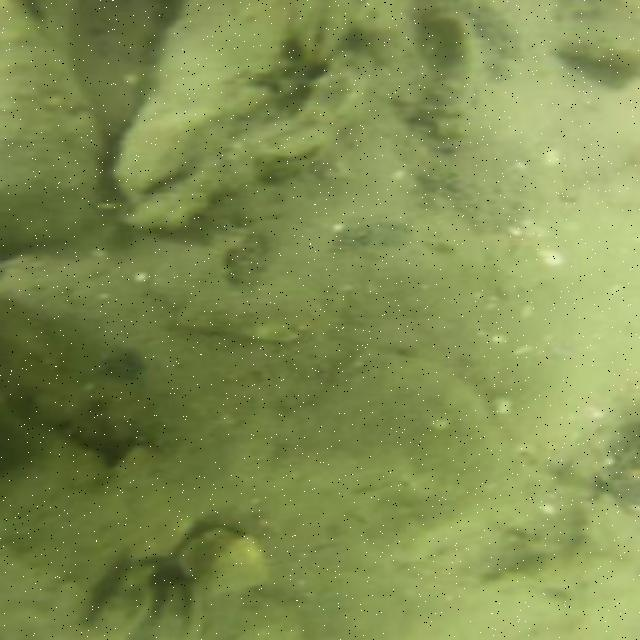Oyster-Closed: (0, 0, 97, 249), (182, 530, 262, 590)
Oyster-Open: (119, 0, 306, 222), (81, 565, 208, 638), (257, 129, 322, 181), (303, 6, 343, 60)
